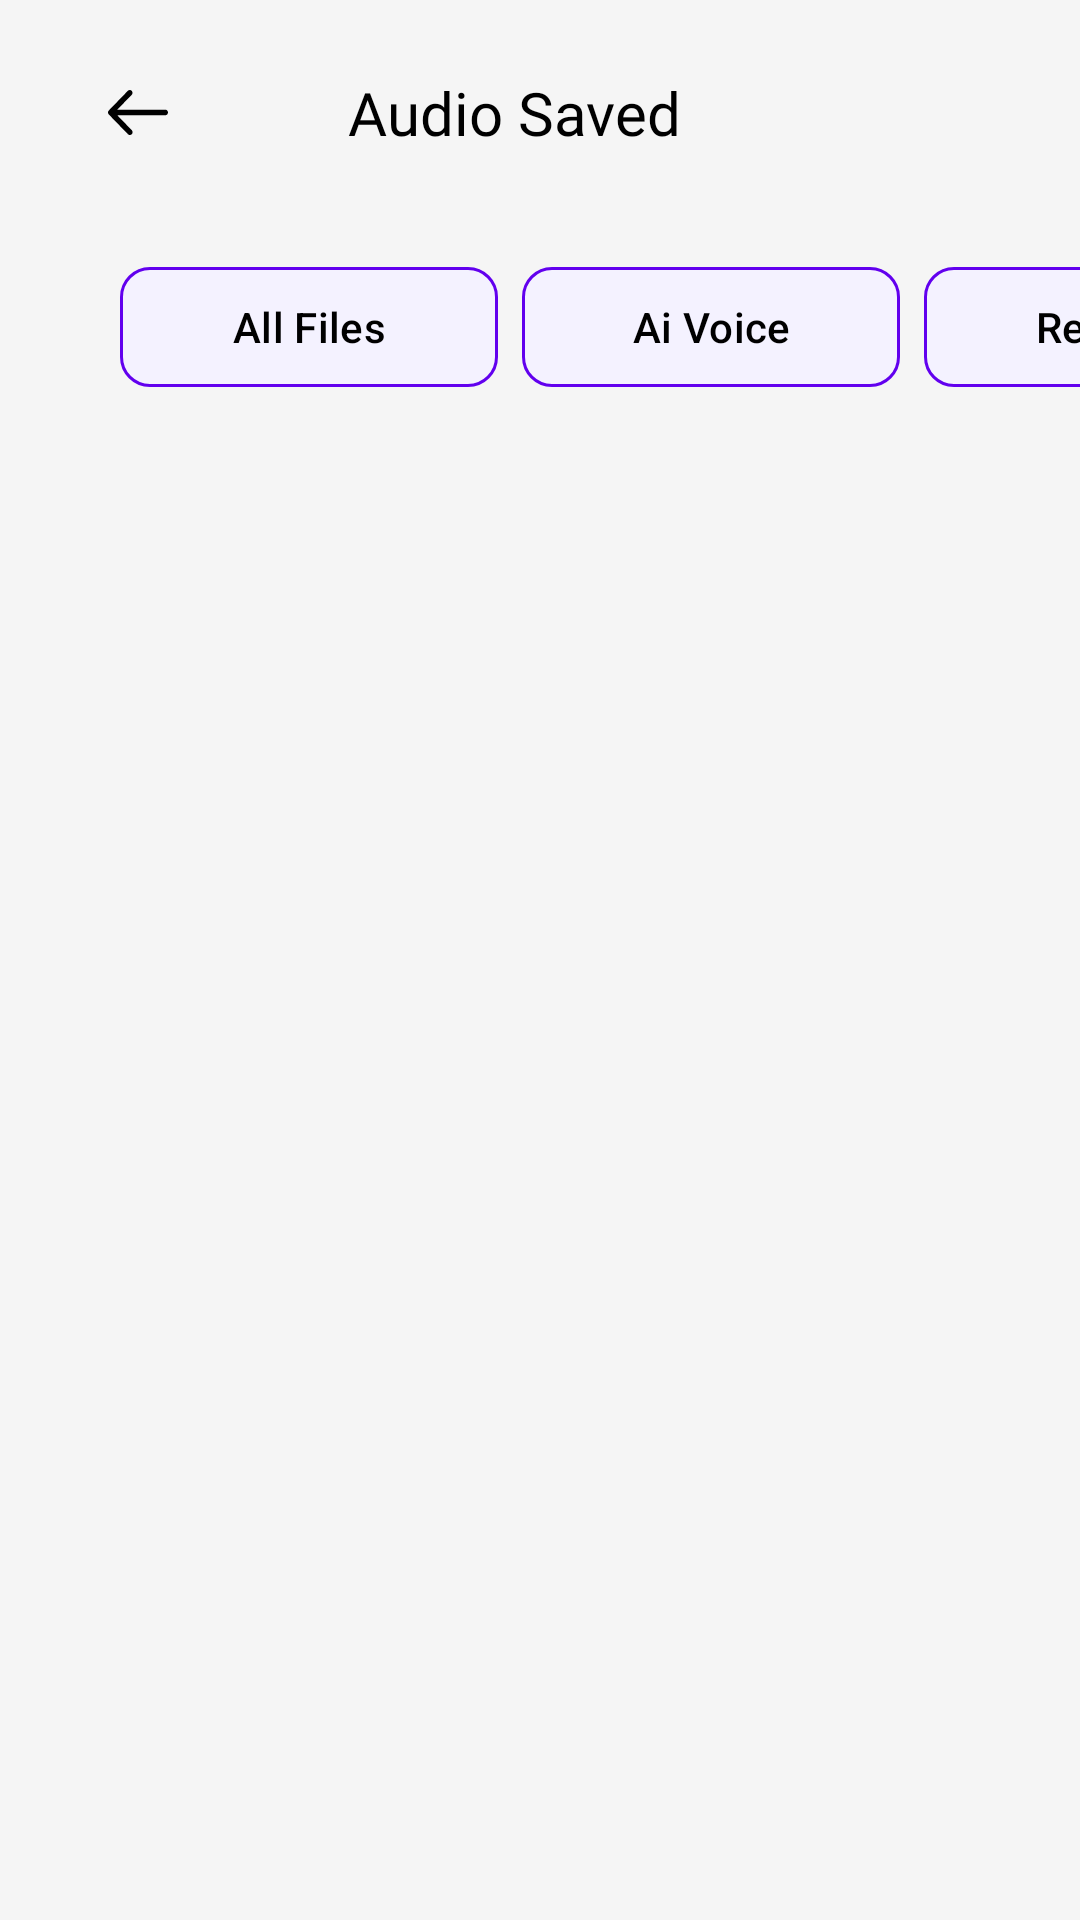

Where icons sit on this 1080*1920 app screen, as box(x1, y1, x2, y2):
back: box(108, 90, 168, 135)
